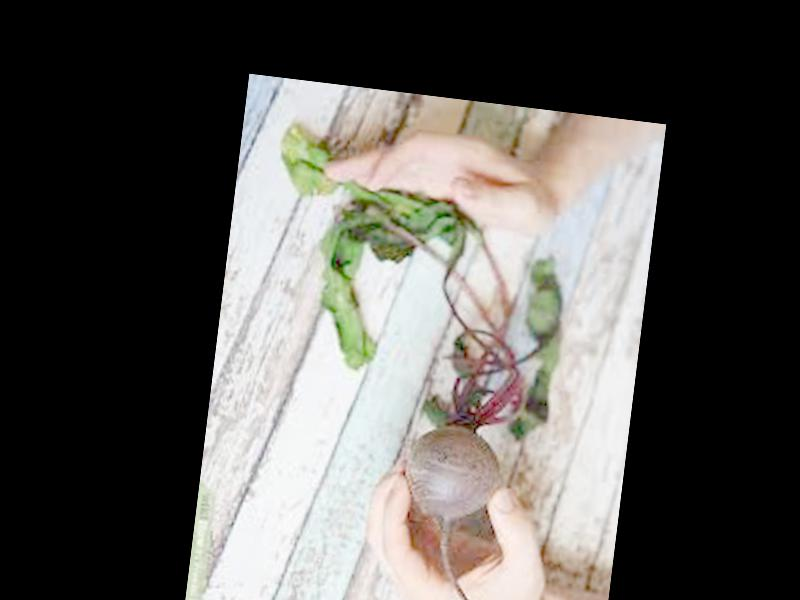Beet: (227, 124, 580, 600)
